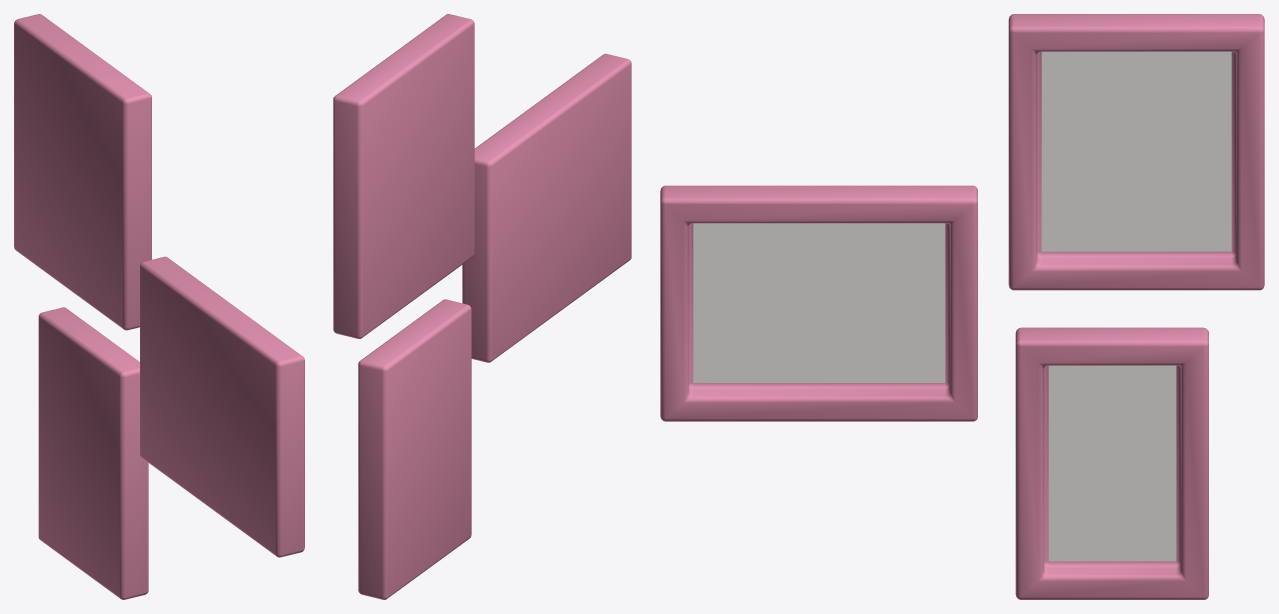
The model's file is frame.gltf.
The picture shows the model from 3 angles, left to right: view 1: azimuth 30°, elevation 25°; view 2: azimuth 150°, elevation 25°; view 3: azimuth 270°, elevation 25°; orthographic projection. The views are drawn at different scales.
Visible parts, largest first — view 1: 액자.2-서랍, 액자.1-서랍, 액자-서랍; view 2: 액자.1-서랍, 액자.2-서랍, 액자-서랍; view 3: 액자.2-Mfloor2, 액자.1-Mfloor2, 액자.2-서랍, 액자.1-서랍, 액자-서랍, 액자-Mfloor2.
Boxes of the visible parts, x1=… form: 액자.2-서랍: x1=140, y1=256, x2=304, y2=557; 액자.1-서랍: x1=14, y1=14, x2=151, y2=330; 액자-서랍: x1=38, y1=307, x2=148, y2=599; 액자.1-서랍: x1=333, y1=14, x2=474, y2=338; 액자.2-서랍: x1=462, y1=53, x2=631, y2=362; 액자-서랍: x1=358, y1=299, x2=471, y2=599; 액자.2-Mfloor2: x1=693, y1=223, x2=945, y2=382; 액자.1-Mfloor2: x1=1041, y1=51, x2=1231, y2=251; 액자.2-서랍: x1=660, y1=185, x2=977, y2=421; 액자.1-서랍: x1=1008, y1=14, x2=1264, y2=290; 액자-서랍: x1=1015, y1=327, x2=1208, y2=599; 액자-Mfloor2: x1=1048, y1=365, x2=1176, y2=561.
Size of the model in its own units: 0.0298 by 0.4989 by 0.4763.
